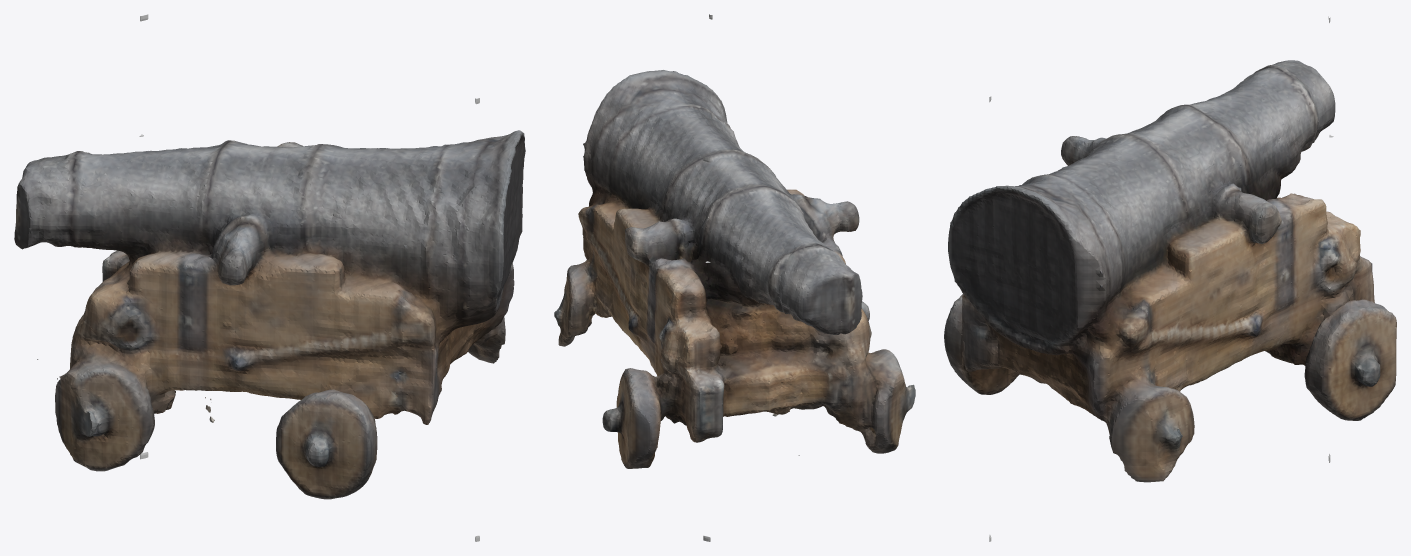
The model's file is naval_cannon_instantmesh.gltf.
The picture shows the model from 3 angles, left to right: view 1: azimuth 30°, elevation 25°; view 2: azimuth 150°, elevation 25°; view 3: azimuth 270°, elevation 25°; orthographic projection. The views are drawn at different scales.
Visible parts, largest first — view 1: world; view 2: world; view 3: world.
Boxes of the visible parts, bbox=[...] form: world: bbox=[14, 14, 525, 541]; world: bbox=[554, 14, 915, 541]; world: bbox=[944, 16, 1396, 541].
Size of the model in its own units: 2 by 2.09 by 1.92.
